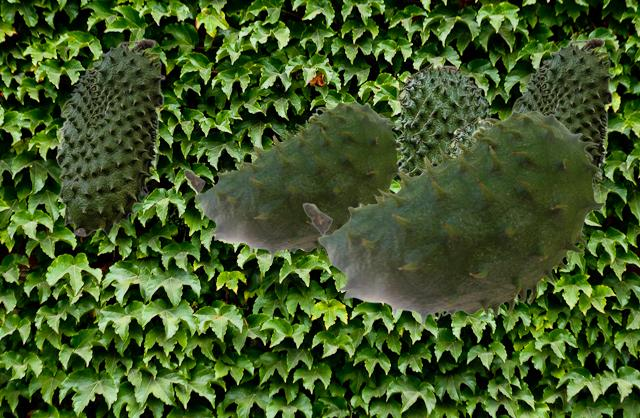guyabano: (302, 110, 605, 329), (183, 101, 405, 262), (55, 38, 164, 236), (511, 37, 613, 194), (394, 60, 493, 175), (448, 116, 490, 154)
